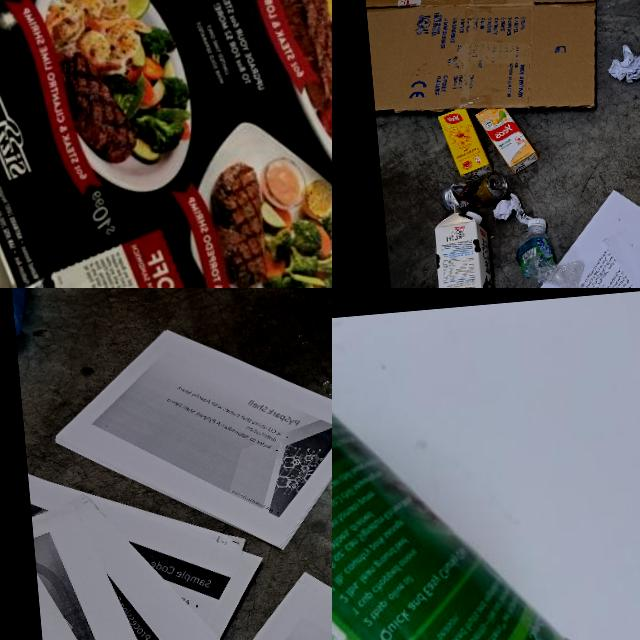aba de lata: (494, 178, 506, 190)
caixinha: (428, 206, 497, 288), (475, 104, 539, 176), (437, 106, 489, 178)
garrafa plástica: (511, 213, 584, 288)
lata: (332, 330, 593, 640), (440, 172, 507, 212)
papel: (0, 0, 332, 288), (43, 310, 332, 570), (27, 442, 283, 640), (604, 40, 640, 85), (491, 192, 532, 226)
papelão: (354, 0, 617, 125)
tampa plástica: (526, 214, 546, 229), (465, 209, 484, 223)
